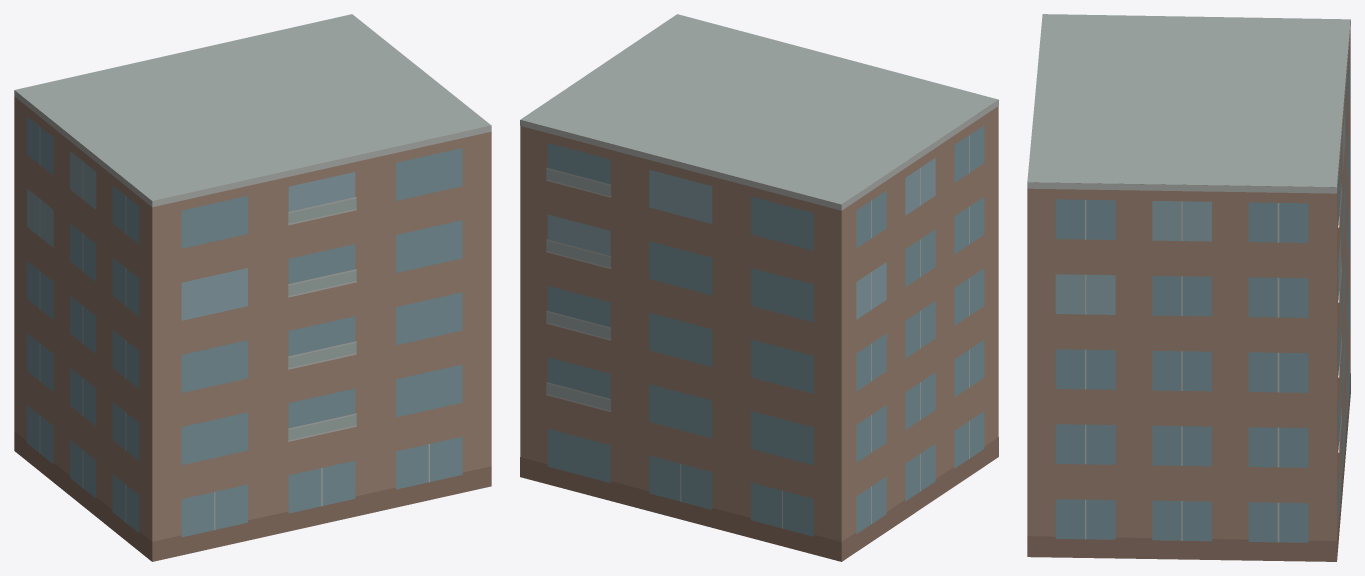
File: survey-upis-32877328.glb
3 views of the same model, side by side, from view 1: azimuth 30°, elevation 25°; view 2: azimuth 150°, elevation 25°; view 3: azimuth 270°, elevation 25° (orthographic). The views are drawn at different scales.
Parts seen in each view (by area): view 1: survey-upis-32877328.tmp; view 2: survey-upis-32877328.tmp; view 3: survey-upis-32877328.tmp.
Part boxes in pixels (x1,y1,x2,y2): survey-upis-32877328.tmp: (14,14,491,561); survey-upis-32877328.tmp: (520,14,998,561); survey-upis-32877328.tmp: (1027,14,1350,561).
Bounding box in the file's own units: 14.08 × 14.2 × 11.12.
